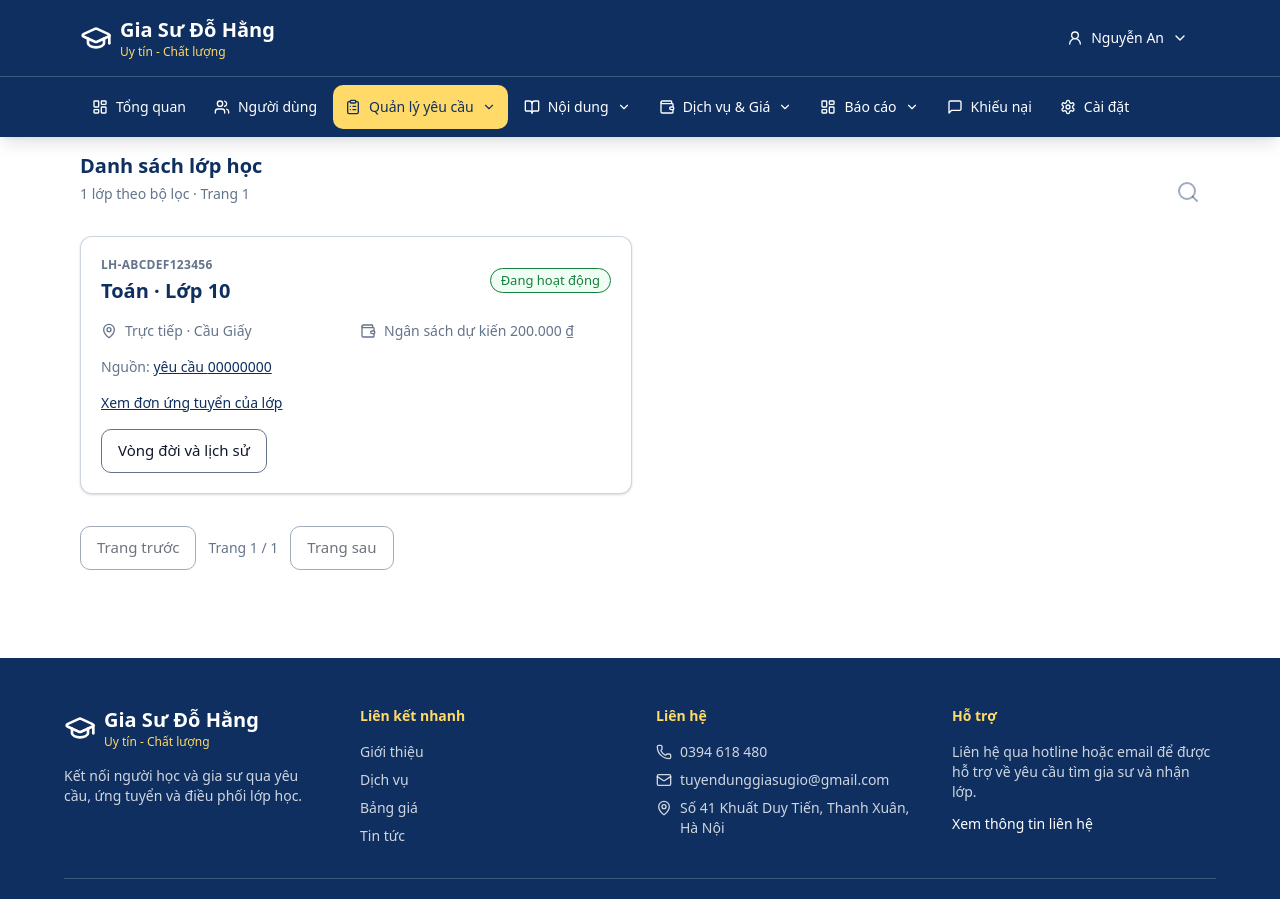
Test case: class lifecycle routes › requires a moderator reason and sends version preconditions when revoking
(page scrolled)
Click the button "Vòng đời và lịch sử": (184,450) [101,428,267,472]
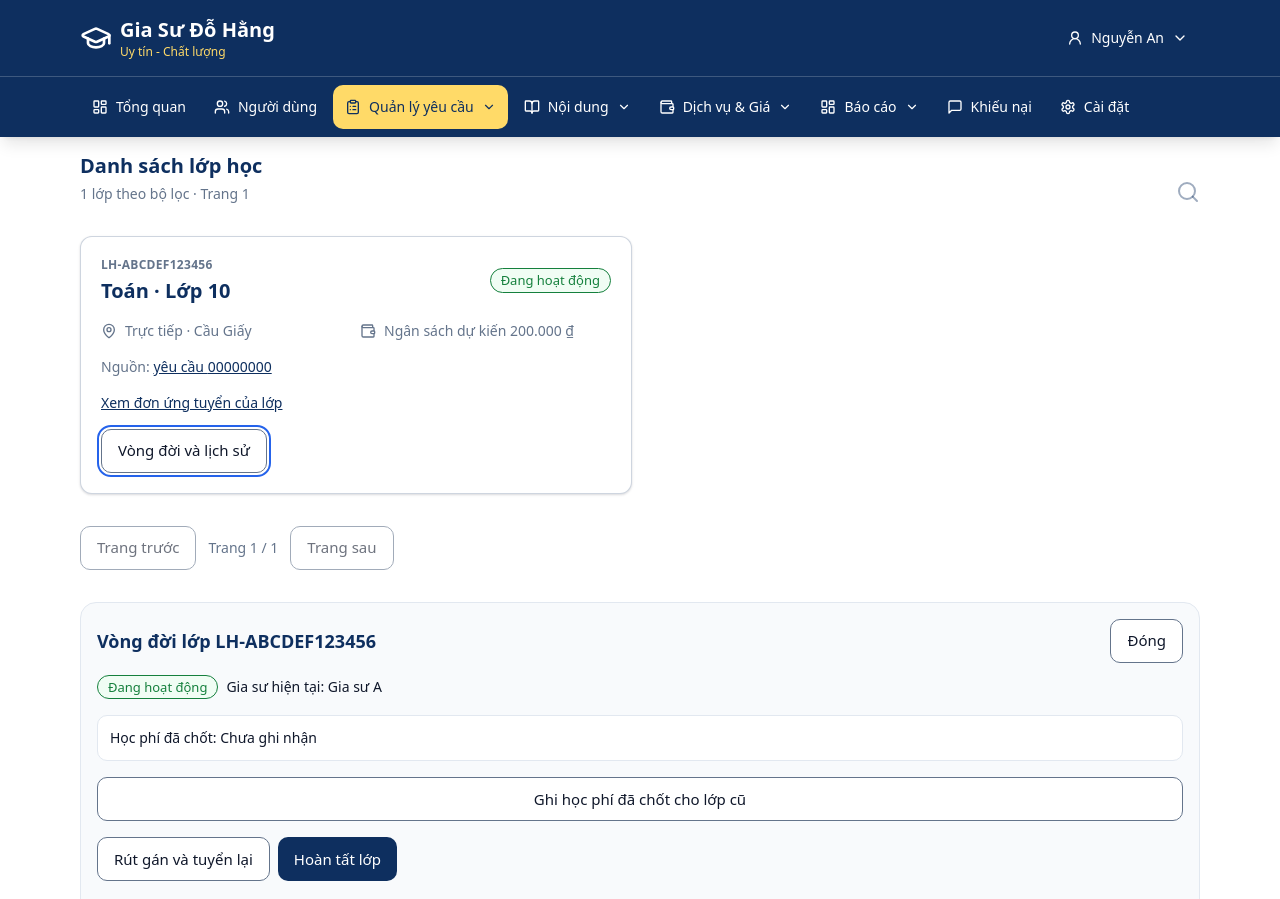
Click the button "Rút gán và tuyển lại": (183,859) [97,837,270,881]
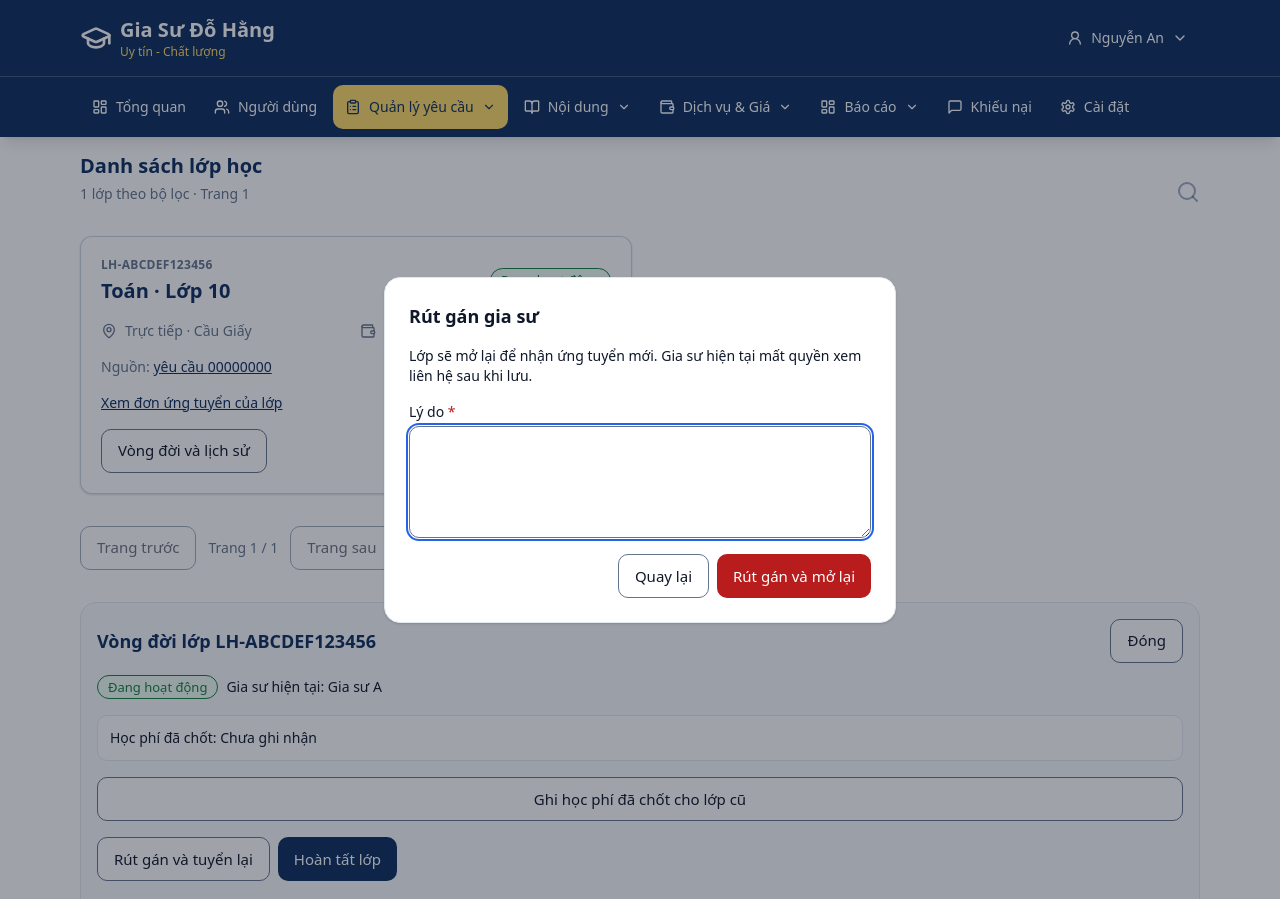
Click the button "Rút gán và mở lại": (794,576) [717,554,871,598]
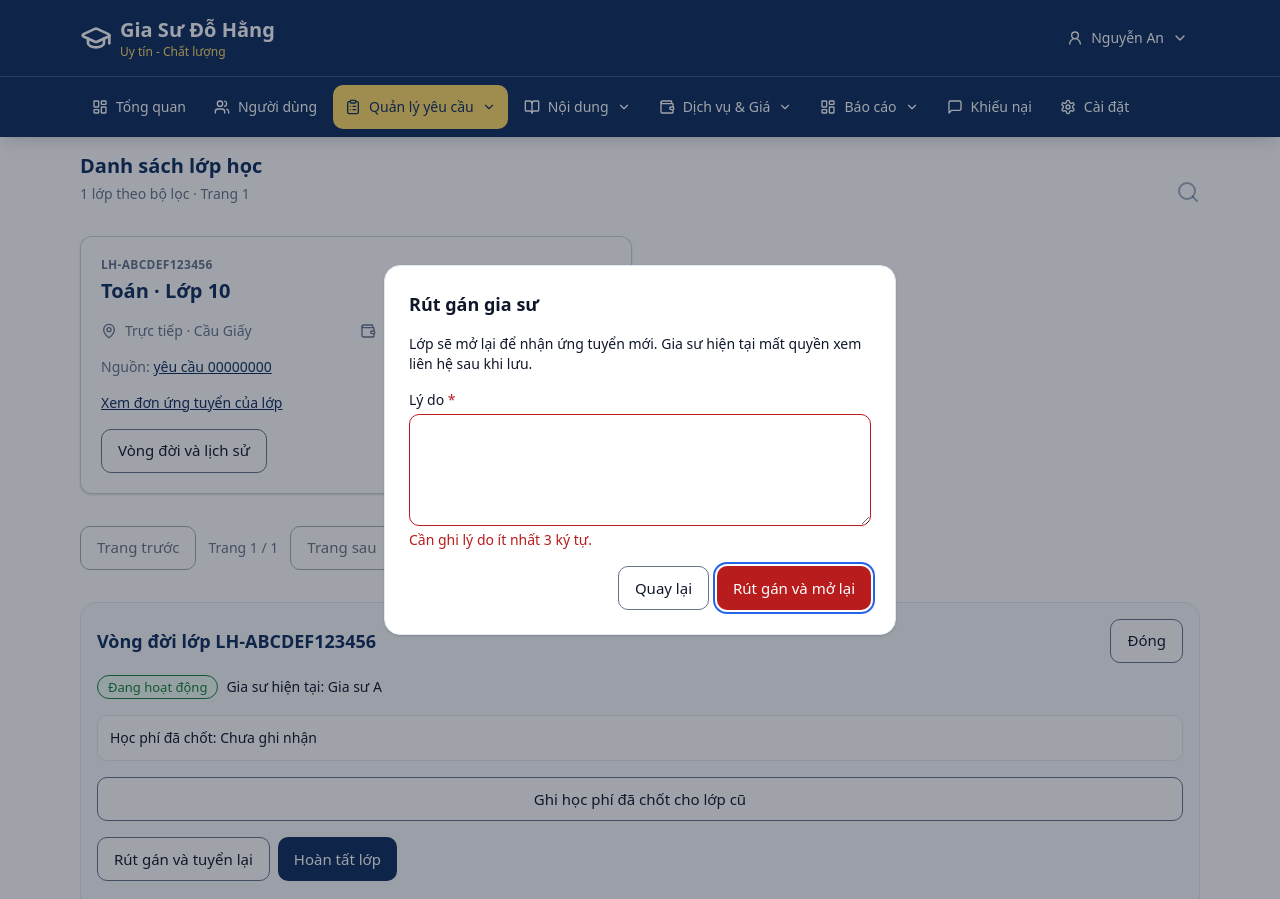
In the text box labelled "Lý do": (640,470) [409,414,871,526], type "Gia sư đổi lịch dạy."
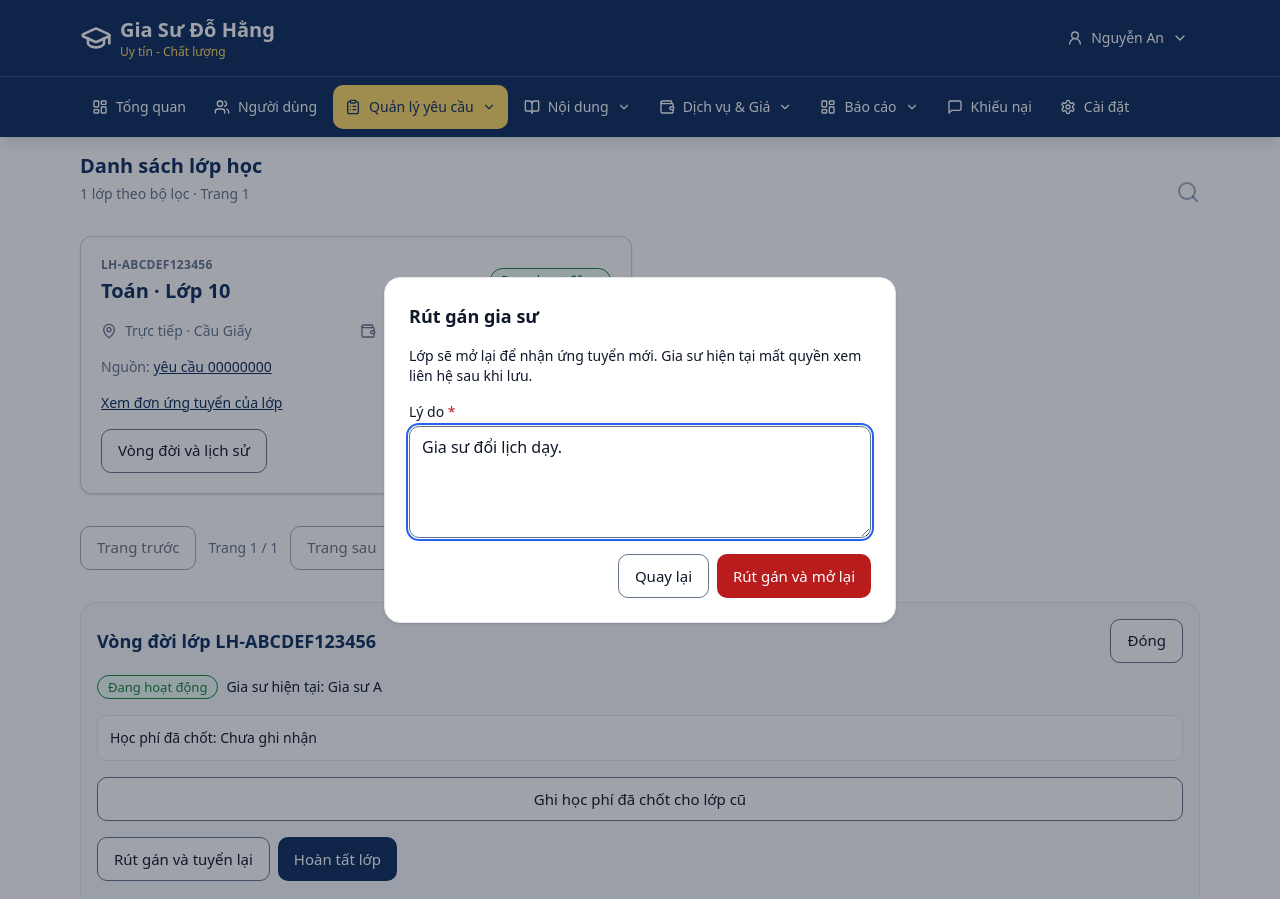
Click the button "Rút gán và mở lại": (794,576) [717,554,871,598]
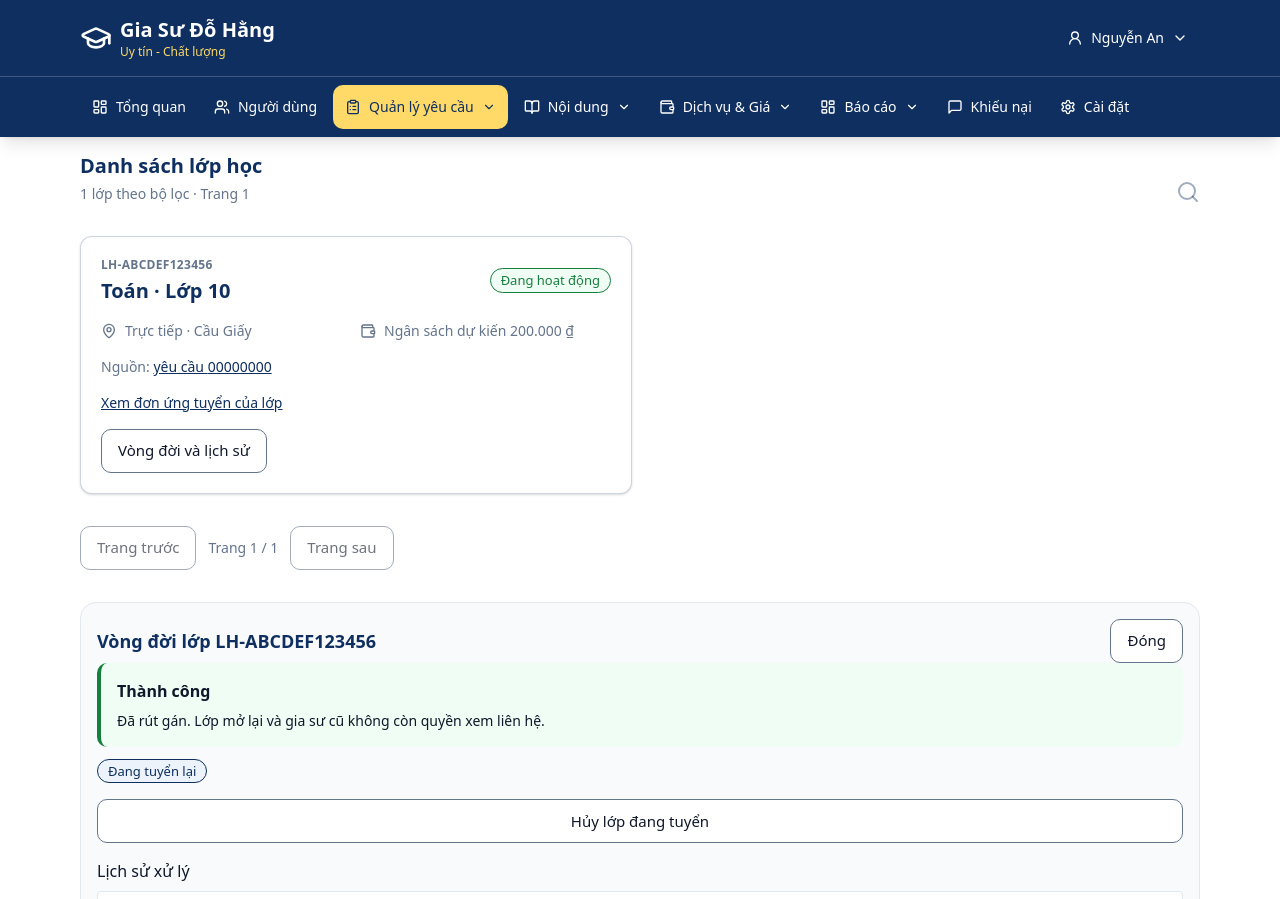
Check: the text "Đã rút gán. Lớp mở lại" is shown, box [117,710,545,730]
